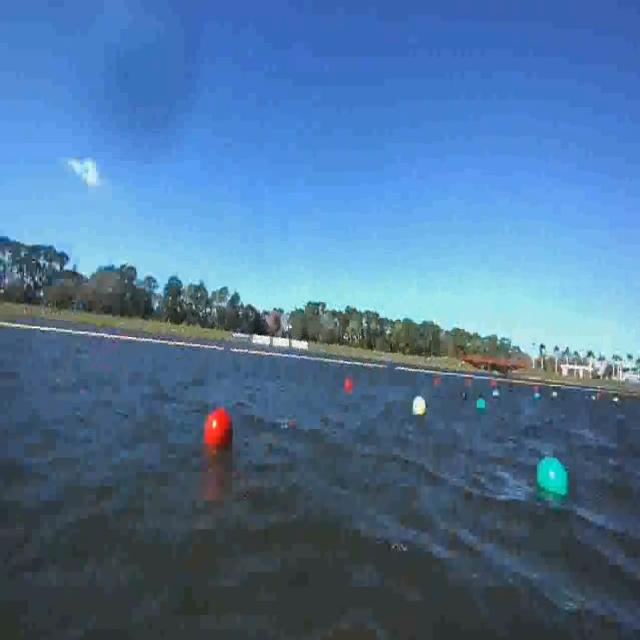green-buoy: (535, 458, 568, 499), (478, 398, 487, 410), (534, 392, 541, 402)
red-buoy: (205, 408, 235, 450), (345, 378, 354, 392), (433, 379, 440, 385)
yellow-buoy: (414, 399, 426, 417)
